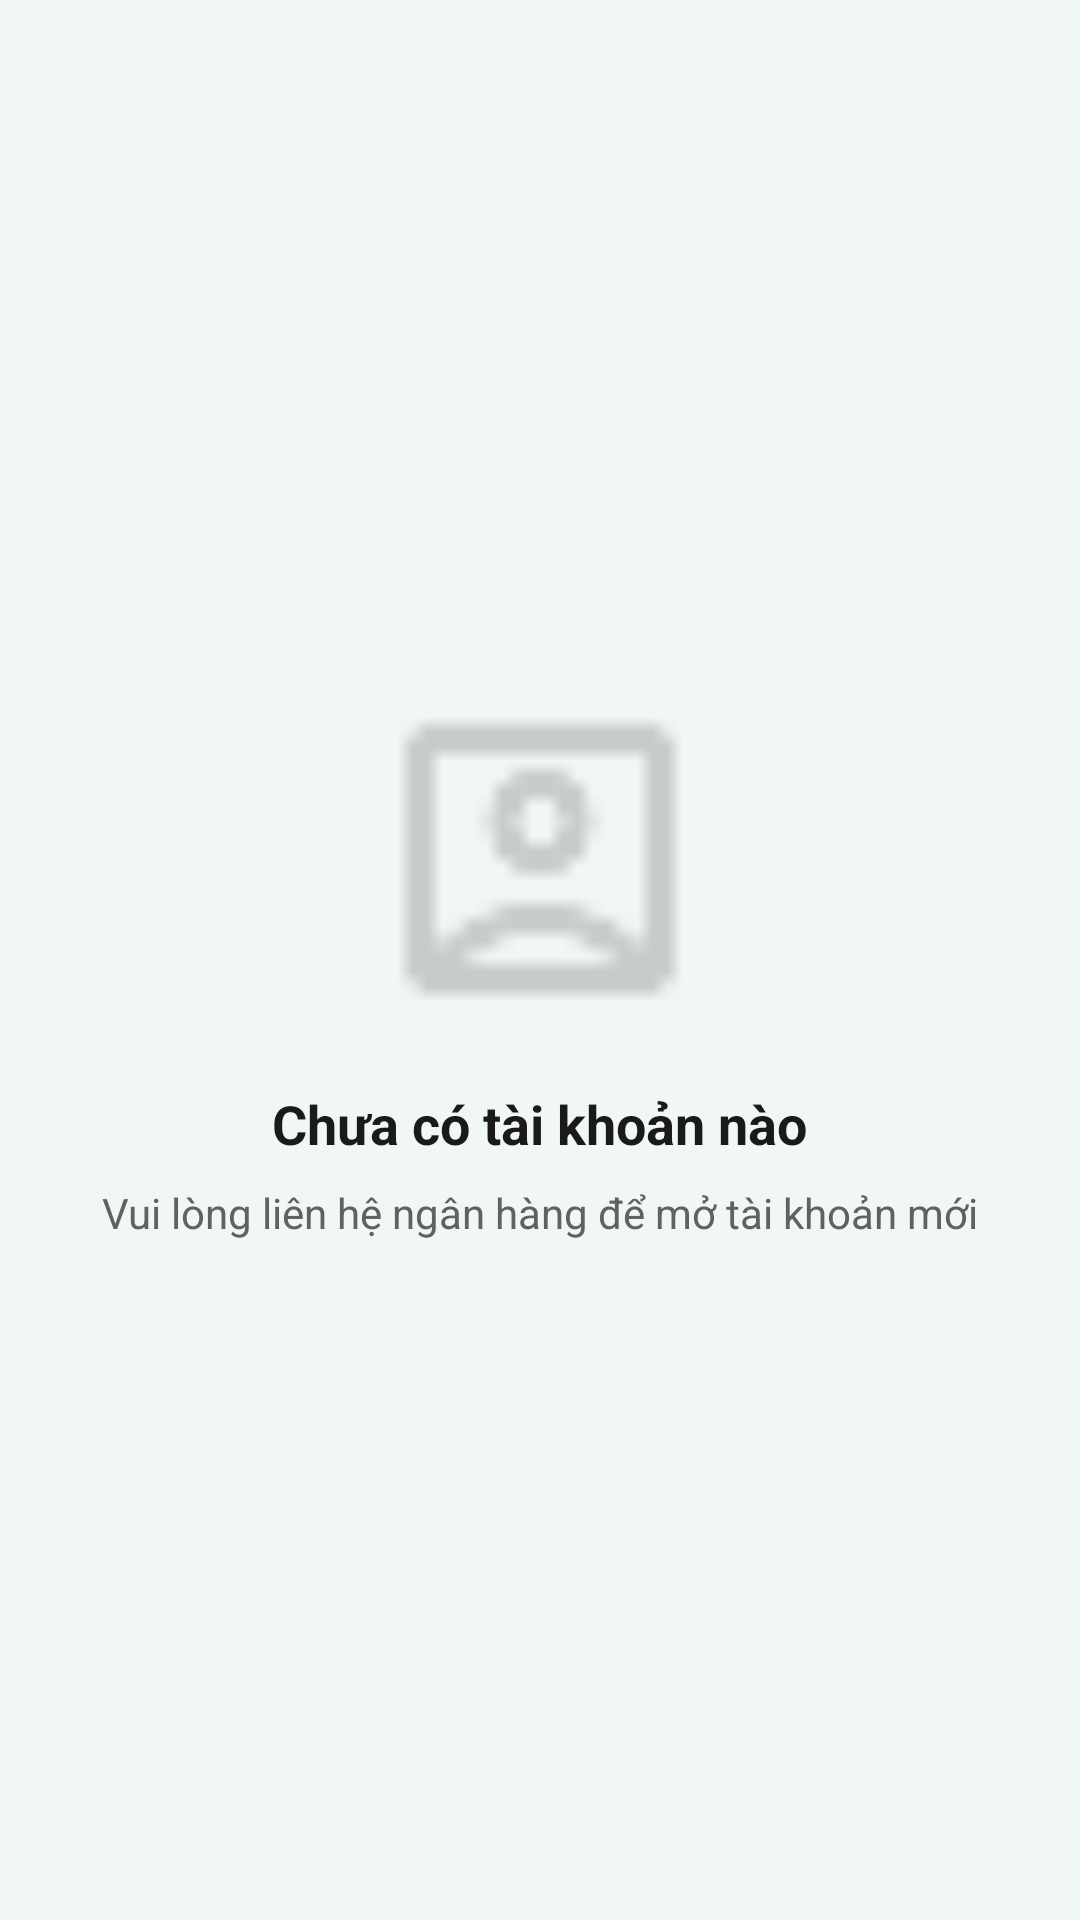

Locate icon controls on the screen. Image size 1080 × 1920, boxes as (x1, y1, x2, y2).
account: (406, 725, 674, 993)
